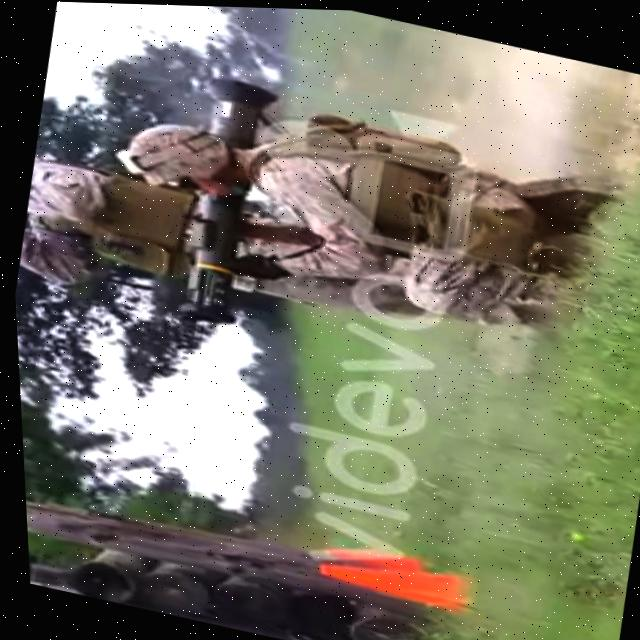rocket: (155, 75, 287, 333)
